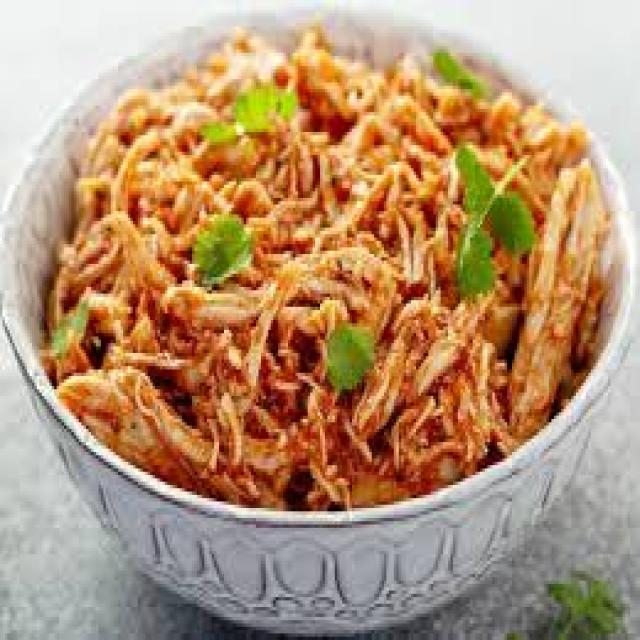ayam_suwir: (49, 19, 618, 509)
